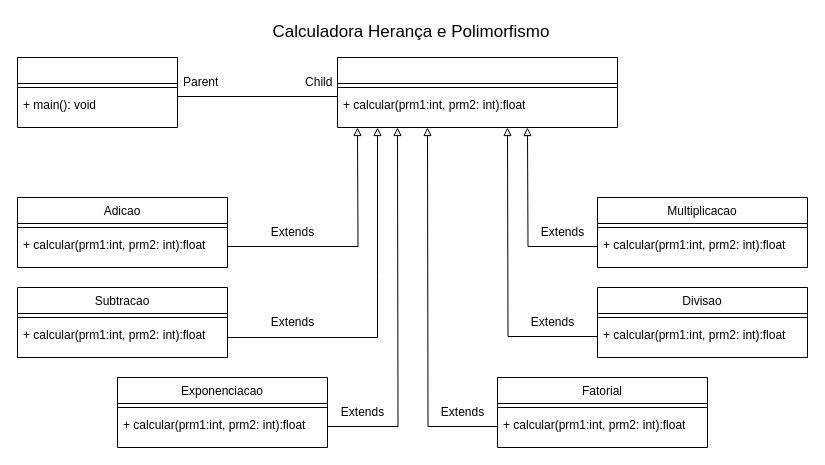
Image size: 825x465. Some labels were removed from this diagram. Each missing label, with the box of its shape:
Calculadora: (16, 56, 178, 128)
Operacao: (336, 56, 618, 128)
